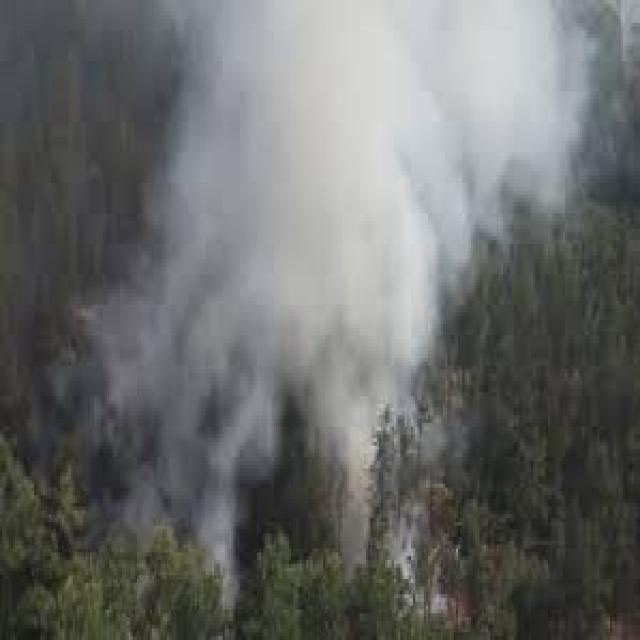Smoke: (159, 0, 465, 441), (212, 0, 488, 323), (226, 0, 420, 422), (245, 0, 530, 287), (138, 0, 286, 544), (242, 0, 532, 233), (274, 0, 472, 329), (277, 104, 452, 472), (158, 102, 320, 426), (351, 0, 591, 175), (428, 0, 588, 209)
